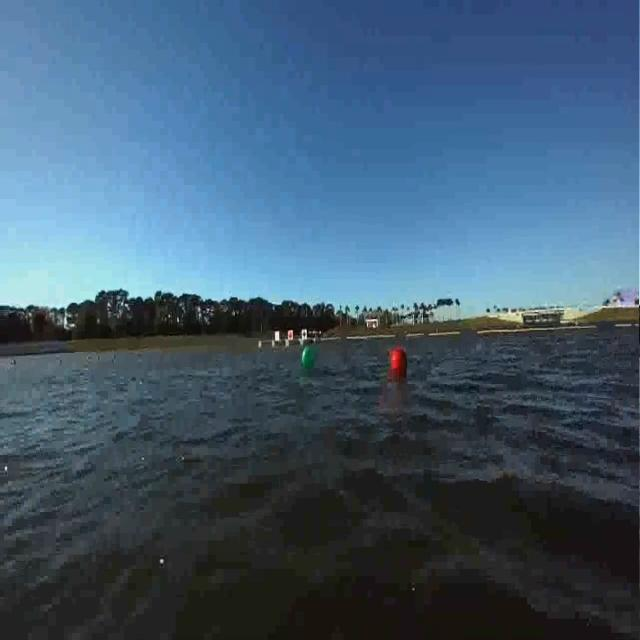green-buoy: (299, 346, 316, 371)
red-buoy: (389, 348, 406, 376)
